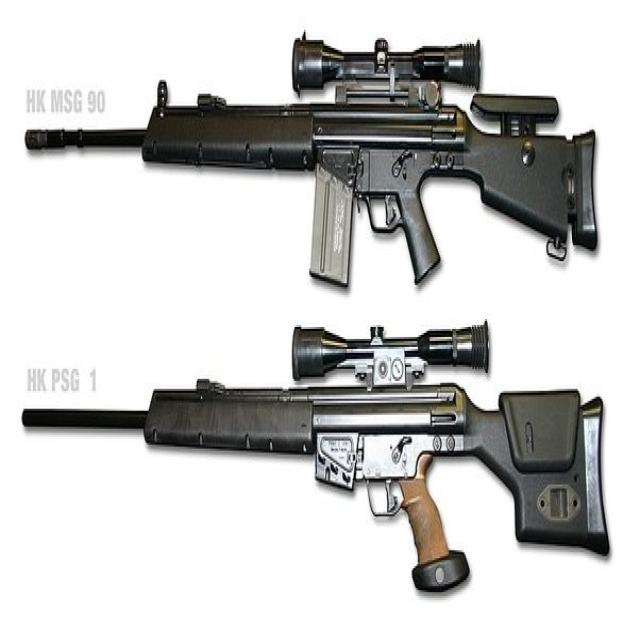Rifle: (20, 323, 610, 594), (24, 38, 600, 289)
